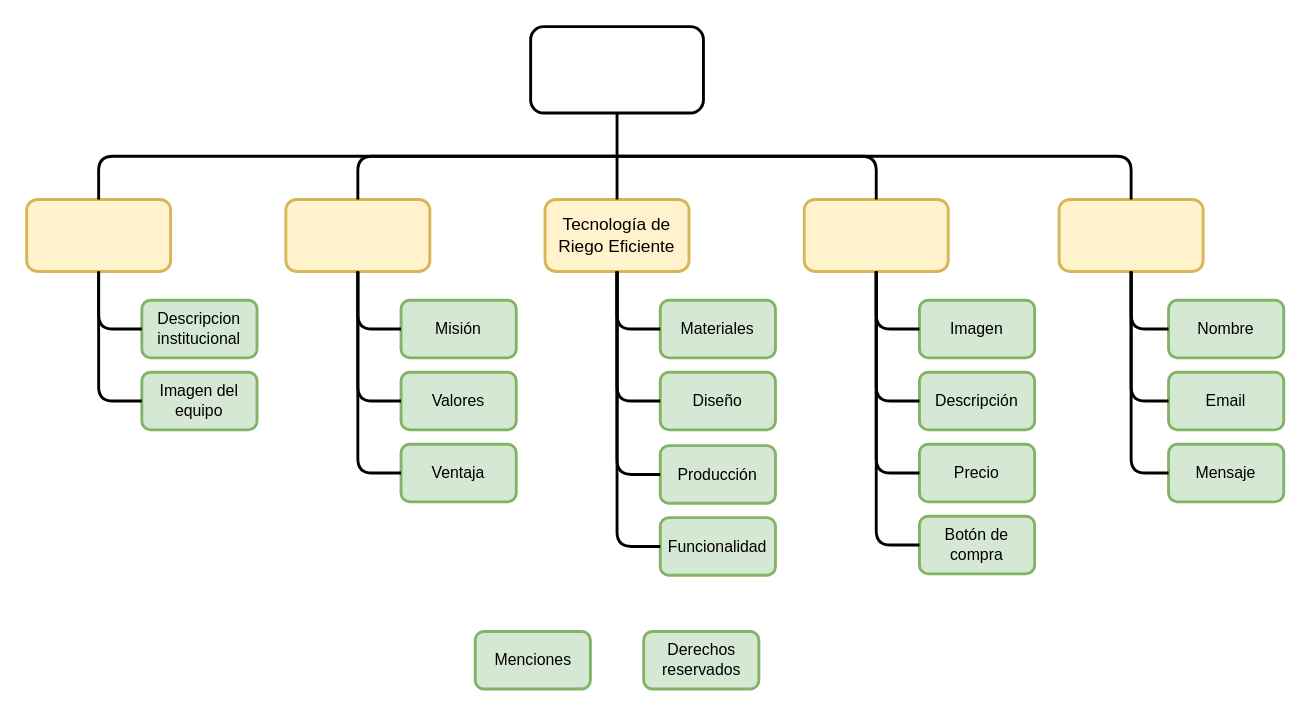
The diagram is 1309 pixels wide and 714 high, and some of its shapes have lost their labels. Here are the shapes that lost their labels. From the top down, the centre of each, then its label:
At (x=616, y=69): "HOME".
At (x=97, y=234): "Quienes somos?".
At (x=357, y=234): "Misión, Valores y Ventaja Competitiva".
At (x=875, y=234): "Tienda".
At (x=1130, y=234): "Contacto".
